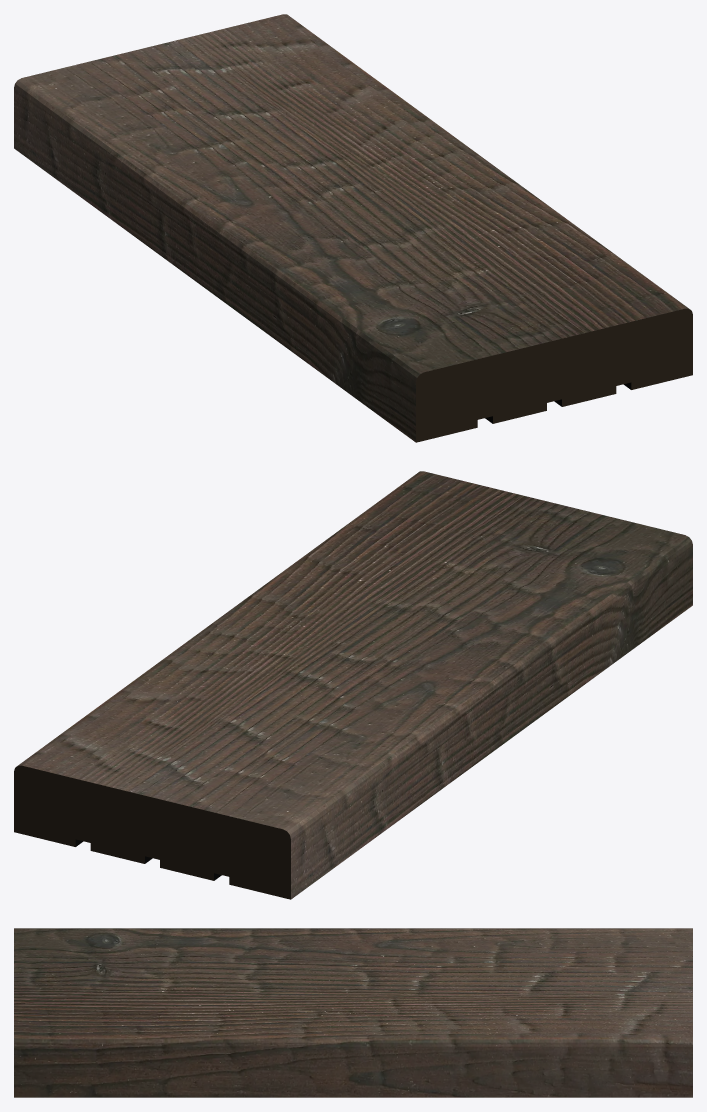
Rendered from thermo-terrace-dark-brown.glb.
3 renders of one model, top to bottom at view 1: azimuth 30°, elevation 25°; view 2: azimuth 150°, elevation 25°; view 3: azimuth 270°, elevation 25°, orthographic. The views are drawn at different scales.
Visible parts, largest first — view 1: Staciakampis; view 2: Staciakampis; view 3: Staciakampis.
Boxes of the visible parts, x1=… form: Staciakampis: x1=14, y1=14, x2=692, y2=442; Staciakampis: x1=14, y1=471, x2=692, y2=899; Staciakampis: x1=14, y1=928, x2=692, y2=1097.
Size of the model in its own units: 0.0733 by 0.0173 by 0.1843.
Materials: 3 (1 with a texture image).
